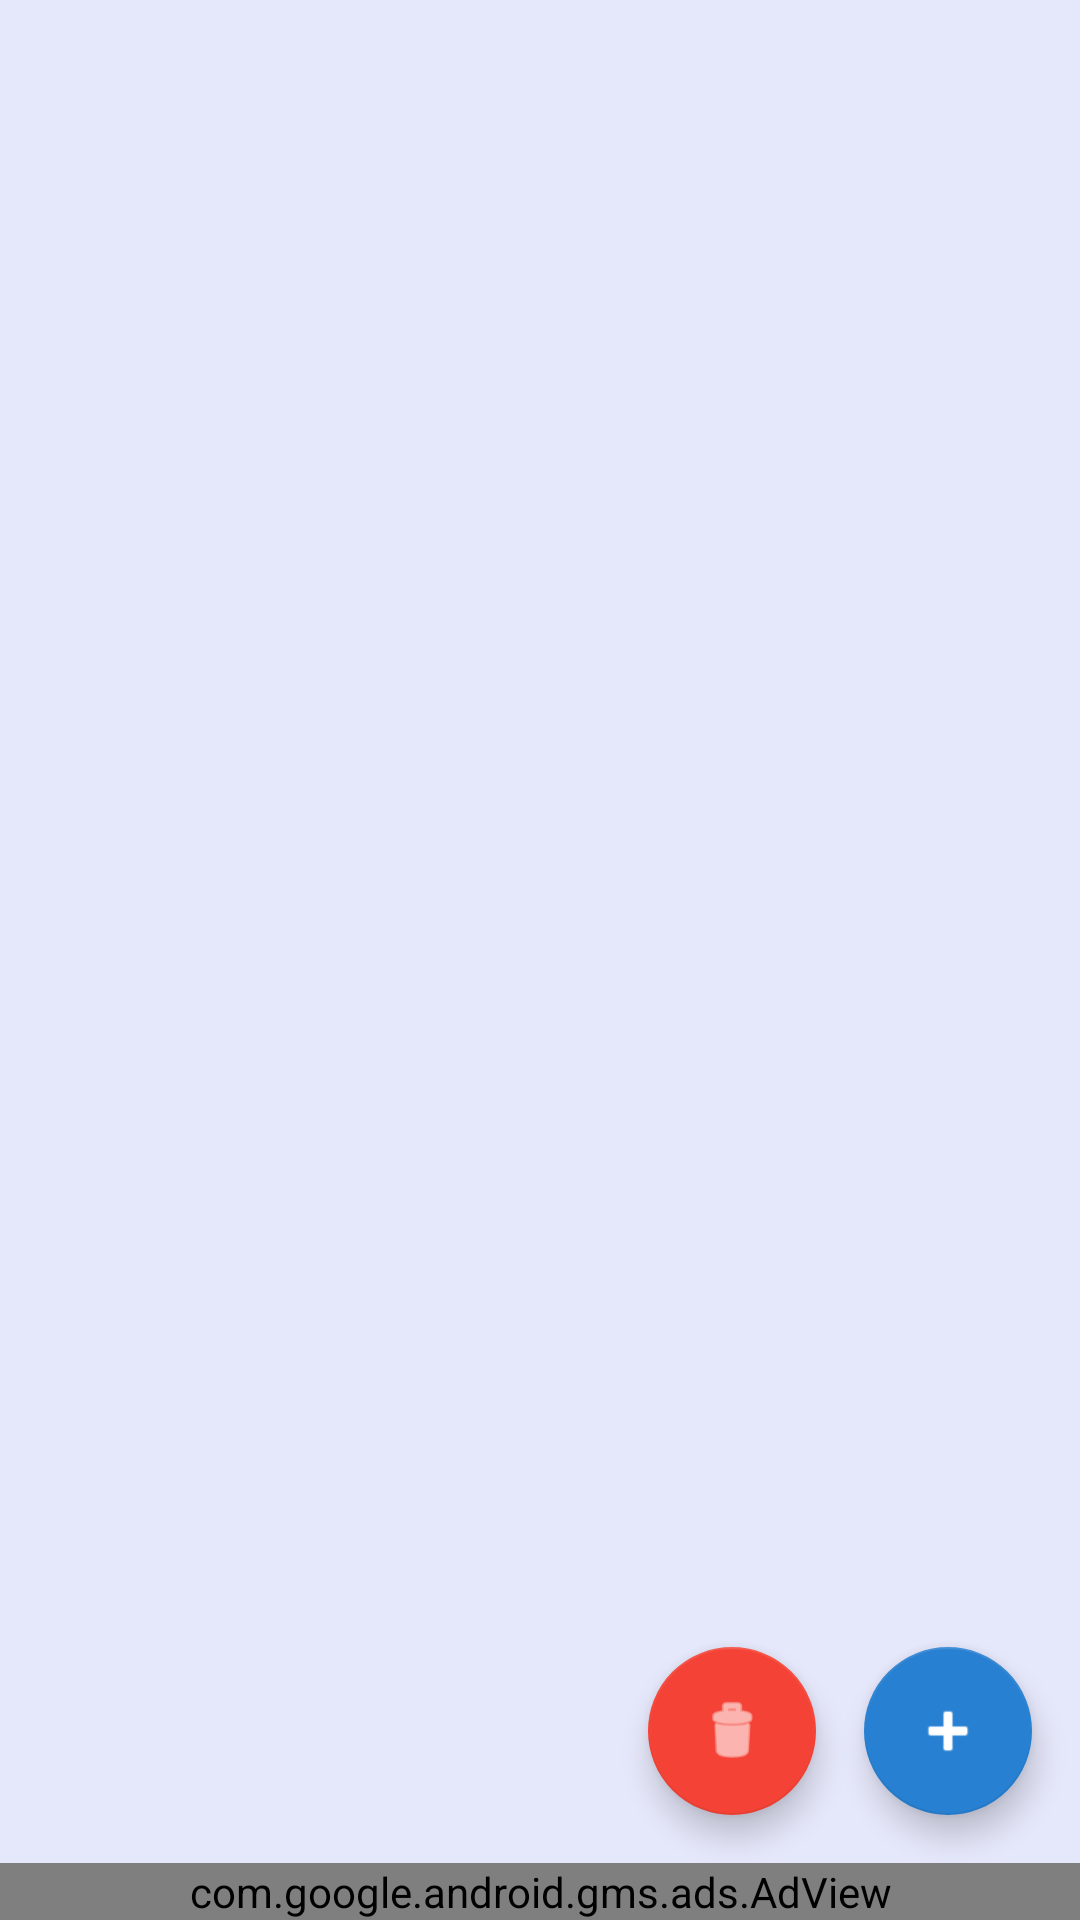

Named icons in this screenshot (1080px×1920px) and their centers, (x=x, y=y):
Ajouter une note: (x=948, y=1731)
Supprimer toutes les notes: (x=732, y=1731)
